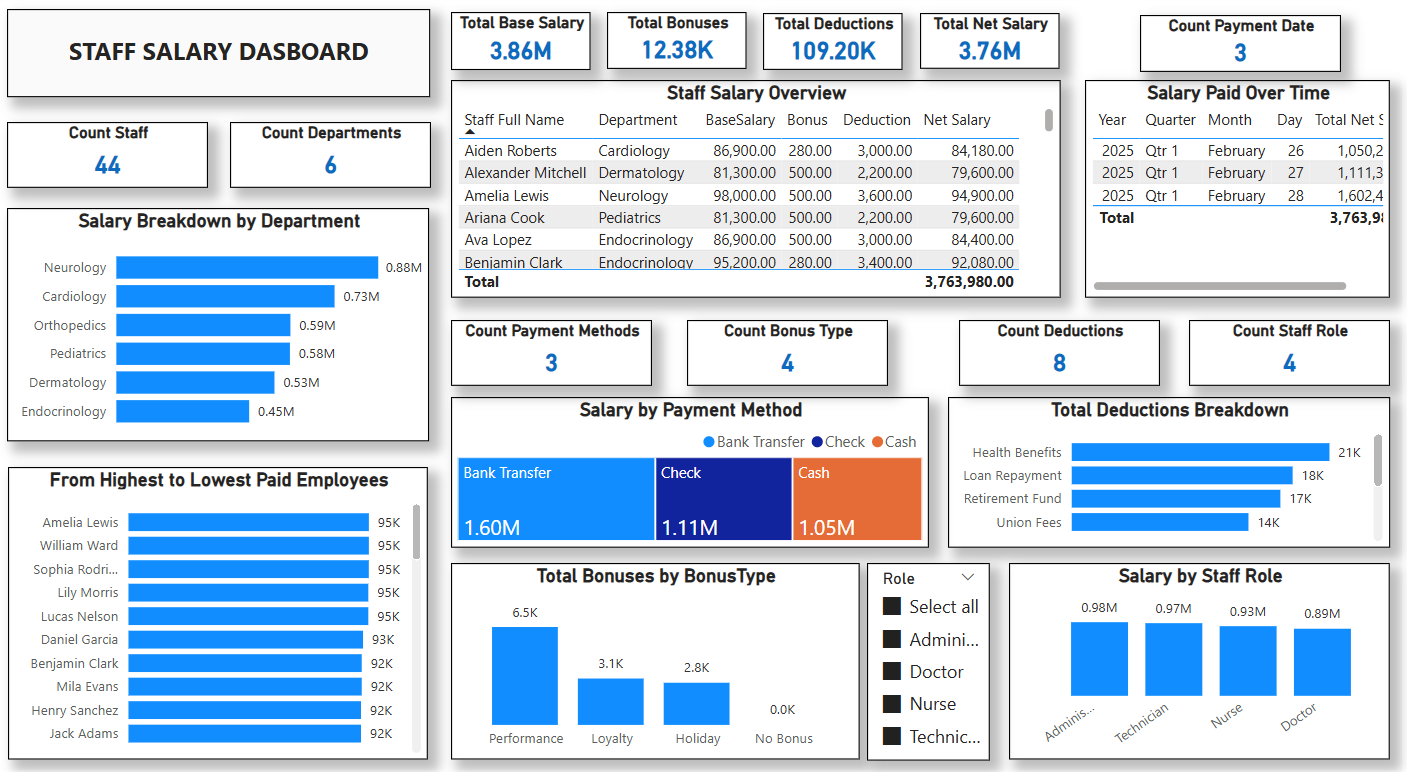

Layout of this report page (visuals, bound fields, positions):
{"tool":"powerbi","page":{"name":"BP_4_Staff Salary","canvas":[1280,720],"ordinal":8},"visuals":[{"type":"textbox","title":"Text box Staff Salary Dashboard","box":[15.6,12.2,379.2,79],"z":0},{"type":"barChart","title":"From Highest to Lowest Paid Employees","fields":{"Y":["Calculated Measures.Total Net Salary"],"Category":["DIM_Staff.Staff Full Name"]},"box":[16,422.4,376.2,262.3],"z":0,"group":"g1"},{"type":"tableEx","title":"Staff Salary Overview","fields":{"Values":["DIM_Staff.Staff Full Name","DIM_Department.DepartmentName","DIM_BaseSalary.BaseSalary","DIM_Bonus.BonusAmount","DIM_Deductions.DeductionAmount","Calculated Measures.Total Net Salary"]},"box":[412.4,75.9,545.7,194.5],"z":1000},{"type":"barChart","title":"Total Deductions Breakdown","fields":{"Category":["DIM_Deductions.DeductionType"],"Y":["Calculated Measures.Total Deductions"]},"box":[857.9,359.9,395.9,135.2],"z":2000},{"type":"columnChart","title":"Salary by Staff Role","fields":{"Category":["DIM_Staff.Role"],"Y":["Calculated Measures.Total Net Salary"]},"box":[912.3,508.7,341.4,176],"z":3000},{"type":"tableEx","title":"Salary Paid Over Time","fields":{"Values":["DIM_Date.Date.Variation.Date Hierarchy.Year","DIM_Date.Date.Variation.Date Hierarchy.Quarter","DIM_Date.Date.Variation.Date Hierarchy.Month","DIM_Date.Date.Variation.Date Hierarchy.Day","Calculated Measures.Total Net Salary"]},"box":[981,75.7,273.4,194.5],"z":4000},{"type":"treemap","title":"Salary by Payment Method","fields":{"Group":["DIM_Payment.PaymentMethod"],"Values":["Calculated Measures.Total Net Salary"]},"box":[412.4,359.9,428,135.2],"z":5000},{"type":"card","title":"Total Base Salary","fields":{"Values":["Calculated Measures.Total Base Salary"]},"box":[412.4,15.6,125.5,51.6],"z":6000},{"type":"columnChart","fields":{"Category":["DIM_Bonus.BonusType"],"Y":["Calculated Measures.Total Bonuses"]},"box":[412.4,508.7,365.7,176],"z":7000},{"type":"card","title":"Total Bonuses","fields":{"Values":["Calculated Measures.Total Bonuses"]},"box":[552.5,15.6,125.5,50.6],"z":8000},{"type":"card","title":"Total Deductions","fields":{"Values":["Calculated Measures.Total Deductions"]},"box":[692.5,16,125.5,50.6],"z":9000},{"type":"card","title":"Total Net Salary","fields":{"Values":["Calculated Measures.Total Net Salary"]},"box":[832.8,16.1,125,50],"z":10000},{"type":"clusteredBarChart","title":"Salary Breakdown by Department","fields":{"Y":["Calculated Measures.Total Net Salary"],"Category":["DIM_Department.DepartmentName"]},"box":[15.6,190.6,378.4,209.1],"z":11000},{"type":"group","id":"g1","title":"Top 10 Highest Paid Methods","box":[16,422.4,376.2,262.3],"z":12000},{"type":"card","title":"Count Staff","fields":{"Values":["Count(FACT_STAFFSALARY.StaffID)"]},"box":[15.6,113.8,179.9,59.3],"z":13000},{"type":"card","title":"Count Staff Role","fields":{"Values":["Count(DIM_Staff.Role)"]},"box":[1073.8,290.8,179.9,59.3],"z":14000},{"type":"card","title":"Count Departments","fields":{"Values":["Count(DIM_Staff.DepartmentID)"]},"box":[215,113.8,179.9,59.3],"z":15000},{"type":"card","title":"Count Deductions","fields":{"Values":["Count(FACT_STAFFSALARY.DeductionID)"]},"box":[867.6,290.8,179.9,59.3],"z":16000},{"type":"card","title":"Count Payment Methods","fields":{"Values":["Count(FACT_STAFFSALARY.PaymentMethodID)"]},"box":[412.4,290.8,179.9,59.3],"z":17000},{"type":"card","title":"Count Bonus Type","fields":{"Values":["Count(FACT_STAFFSALARY.BonusID)"]},"box":[624.4,290.8,179.9,59.3],"z":18000},{"type":"card","title":"Count Payment Date","fields":{"Values":["Count(FACT_STAFFSALARY.PaymentDateID)"]},"box":[1030,17.5,179.9,50.6],"z":19000},{"type":"slicer","fields":{"Values":["DIM_Staff.Role"]},"box":[785.4,508.9,110.4,176.6],"z":20000}]}

Visuals, with their boxes in screenshot pixels (x1, y1, x2, y2), scaled from the page's 1280x720 canvas onto the 1407x772 screenshot:
"Text box Staff Salary Dashboard" textbox: Rect(17, 13, 434, 98)
"From Highest to Lowest Paid Employees" barChart: Rect(18, 453, 431, 734)
"Staff Salary Overview" tableEx: Rect(453, 81, 1053, 290)
"Total Deductions Breakdown" barChart: Rect(943, 386, 1378, 531)
"Salary by Staff Role" columnChart: Rect(1003, 545, 1378, 734)
"Salary Paid Over Time" tableEx: Rect(1078, 81, 1379, 290)
"Salary by Payment Method" treemap: Rect(453, 386, 924, 531)
"Total Base Salary" card: Rect(453, 17, 591, 72)
columnChart - DIM_Bonus.BonusType x Calculated Measures.Total Bonuses: Rect(453, 545, 855, 734)
"Total Bonuses" card: Rect(607, 17, 745, 71)
"Total Deductions" card: Rect(761, 17, 899, 71)
"Total Net Salary" card: Rect(915, 17, 1053, 71)
"Salary Breakdown by Department" clusteredBarChart: Rect(17, 204, 433, 429)
"Top 10 Highest Paid Methods" group: Rect(18, 453, 431, 734)
"Count Staff" card: Rect(17, 122, 215, 186)
"Count Staff Role" card: Rect(1180, 312, 1378, 375)
"Count Departments" card: Rect(236, 122, 434, 186)
"Count Deductions" card: Rect(954, 312, 1151, 375)
"Count Payment Methods" card: Rect(453, 312, 651, 375)
"Count Bonus Type" card: Rect(686, 312, 884, 375)
"Count Payment Date" card: Rect(1132, 19, 1330, 73)
slicer - DIM_Staff.Role: Rect(863, 546, 985, 735)
